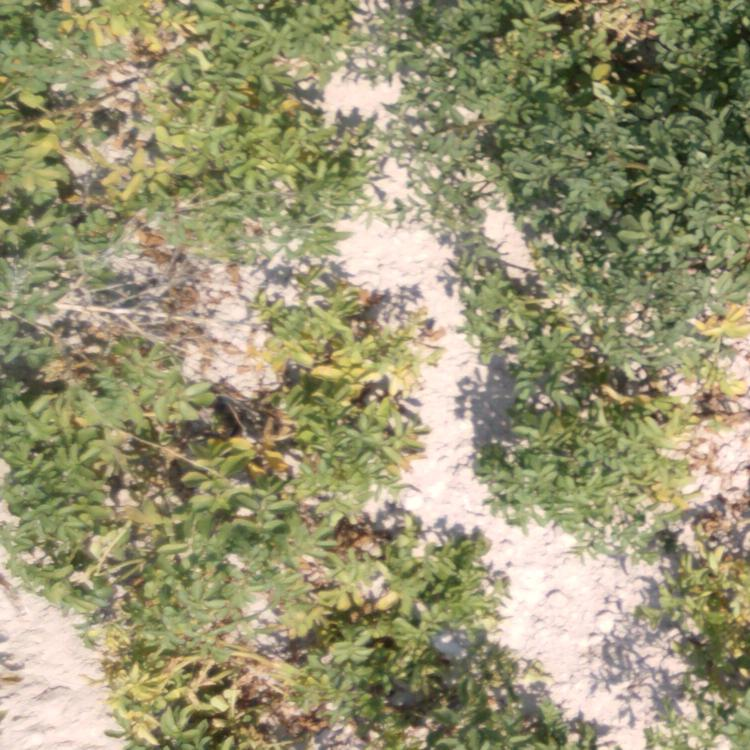healthy: (366, 5, 749, 161), (520, 162, 739, 281)
stressed: (113, 577, 557, 750), (205, 289, 445, 573), (7, 1, 355, 192), (3, 199, 174, 561), (495, 291, 749, 522), (659, 538, 750, 732), (176, 205, 346, 257)
